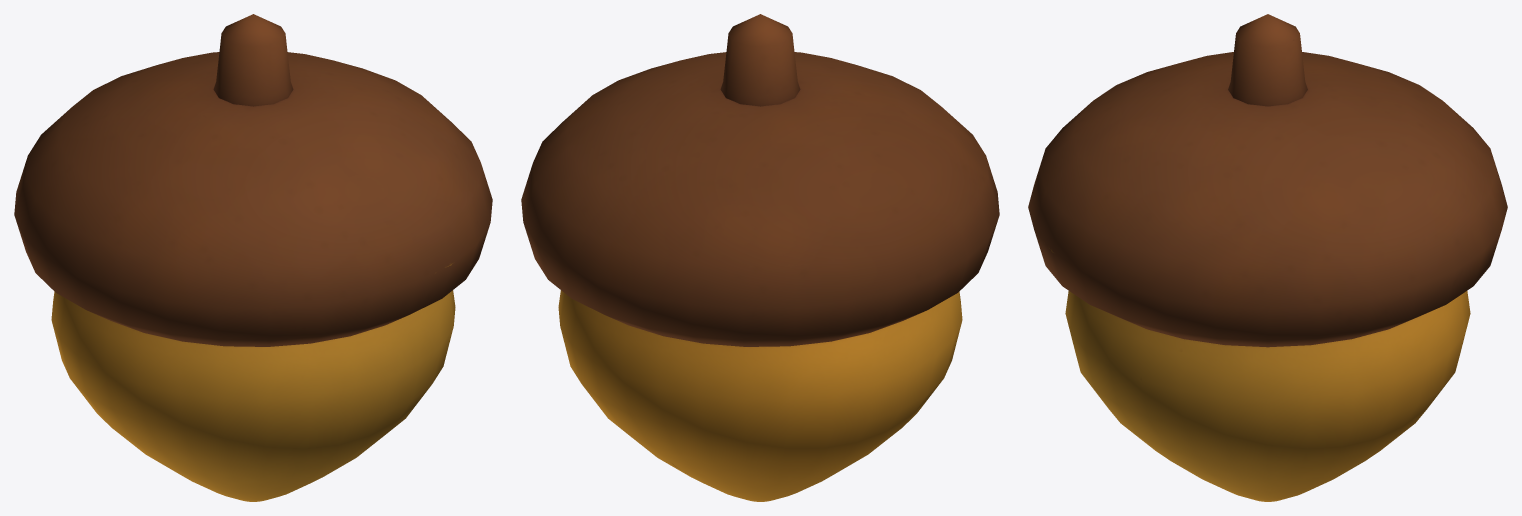
The model's file is GM_BOSS_Acorn.fbx.
3 renders of one model, left to right at view 1: azimuth 30°, elevation 25°; view 2: azimuth 150°, elevation 25°; view 3: azimuth 270°, elevation 25°, orthographic.
Parts seen in each view (by area): view 1: GM_BOSS_Acorn; view 2: GM_BOSS_Acorn; view 3: GM_BOSS_Acorn.
Part boxes in pixels (bbox=[...]): GM_BOSS_Acorn: bbox=[14, 14, 492, 501]; GM_BOSS_Acorn: bbox=[521, 14, 999, 501]; GM_BOSS_Acorn: bbox=[1028, 14, 1507, 501].
Bounding box in the file's own units: 45 × 50.04 × 45.
1 material, 1 textured.
